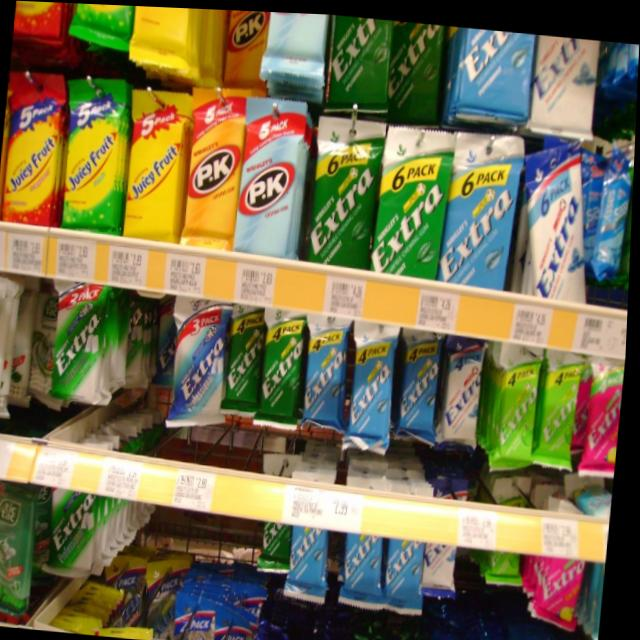q94: (519, 136, 600, 297), (533, 30, 604, 139), (440, 339, 495, 453)
